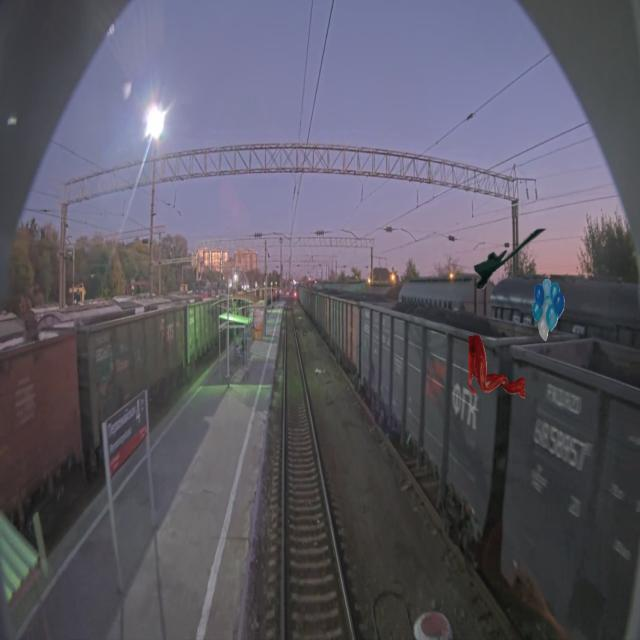balloon: (532, 278, 565, 342)
floating object: (474, 227, 549, 291), (468, 335, 524, 399)
